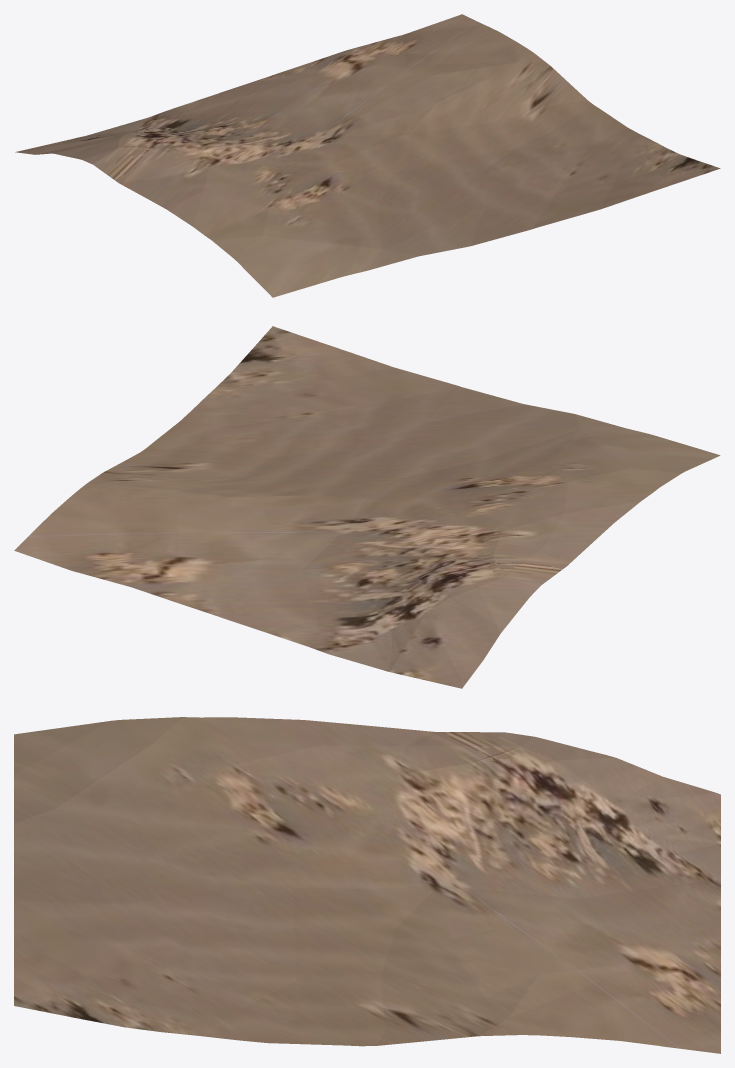
3 renders of one model, top to bottom at view 1: azimuth 30°, elevation 25°; view 2: azimuth 150°, elevation 25°; view 3: azimuth 270°, elevation 25°, orthographic. The views are drawn at different scales.
Bounding box in the file's own units: 1.04 × 0.1445 × 1.04.
3 materials, 3 textured.
